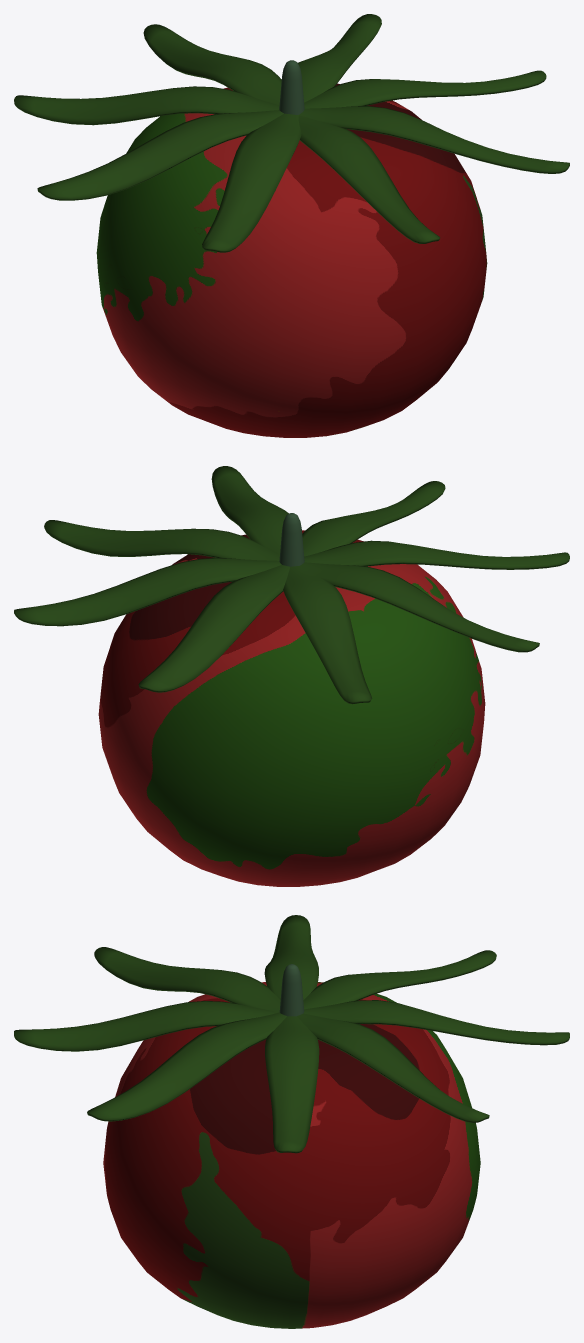
The model's file is tomato (2).fbx.
The picture shows the model from 3 angles, top to bottom: view 1: azimuth 30°, elevation 25°; view 2: azimuth 150°, elevation 25°; view 3: azimuth 270°, elevation 25°; orthographic projection. The views are drawn at different scales.
Parts seen in each view (by area): view 1: Sphere, Plane.002, Plane.006, Plane.005, Plane.003, Plane.007, Plane.001, Plane, Plane.004, Cylinder; view 2: Sphere, Plane.004, Plane.001, Plane.005, Plane, Plane.002, Plane.006, Plane.007, Plane.003, Cylinder; view 3: Sphere, Plane.007, Plane.003, Plane, Plane.004, Plane.006, Plane.001, Plane.005, Plane.002, Cylinder.
Part boxes in pixels (<box>): Sphere: <box>96,83,487,437</box>; Plane.002: <box>37,110,283,200</box>; Plane.006: <box>202,113,301,252</box>; Plane.005: <box>14,86,279,125</box>; Plane.003: <box>298,115,440,243</box>; Plane.007: <box>299,106,569,173</box>; Plane.001: <box>143,24,281,105</box>; Plane: <box>304,70,546,108</box>; Plane.004: <box>298,14,381,102</box>; Cylinder: <box>279,60,304,114</box>; Sphere: <box>98,530,485,886</box>; Plane.004: <box>14,558,281,626</box>; Plane.001: <box>138,565,289,692</box>; Plane.005: <box>283,566,372,704</box>; Plane: <box>44,520,279,560</box>; Plane.002: <box>300,562,539,652</box>; Plane.006: <box>304,540,569,569</box>; Plane.007: <box>211,466,288,554</box>; Plane.003: <box>302,481,445,556</box>; Cylinder: <box>279,513,304,566</box>; Sphere: <box>103,982,480,1328</box>; Plane.007: <box>87,1012,286,1121</box>; Plane.003: <box>14,1001,277,1051</box>; Plane: <box>265,1016,319,1153</box>; Plane.004: <box>297,1013,489,1122</box>; Plane.006: <box>94,947,280,1012</box>; Plane.001: <box>303,1000,569,1045</box>; Plane.005: <box>303,950,496,1009</box>; Plane.002: <box>264,915,318,999</box>; Cylinder: <box>279,964,304,1016</box>.
Size of the model in its own units: 58.48 by 39.42 by 58.48.
